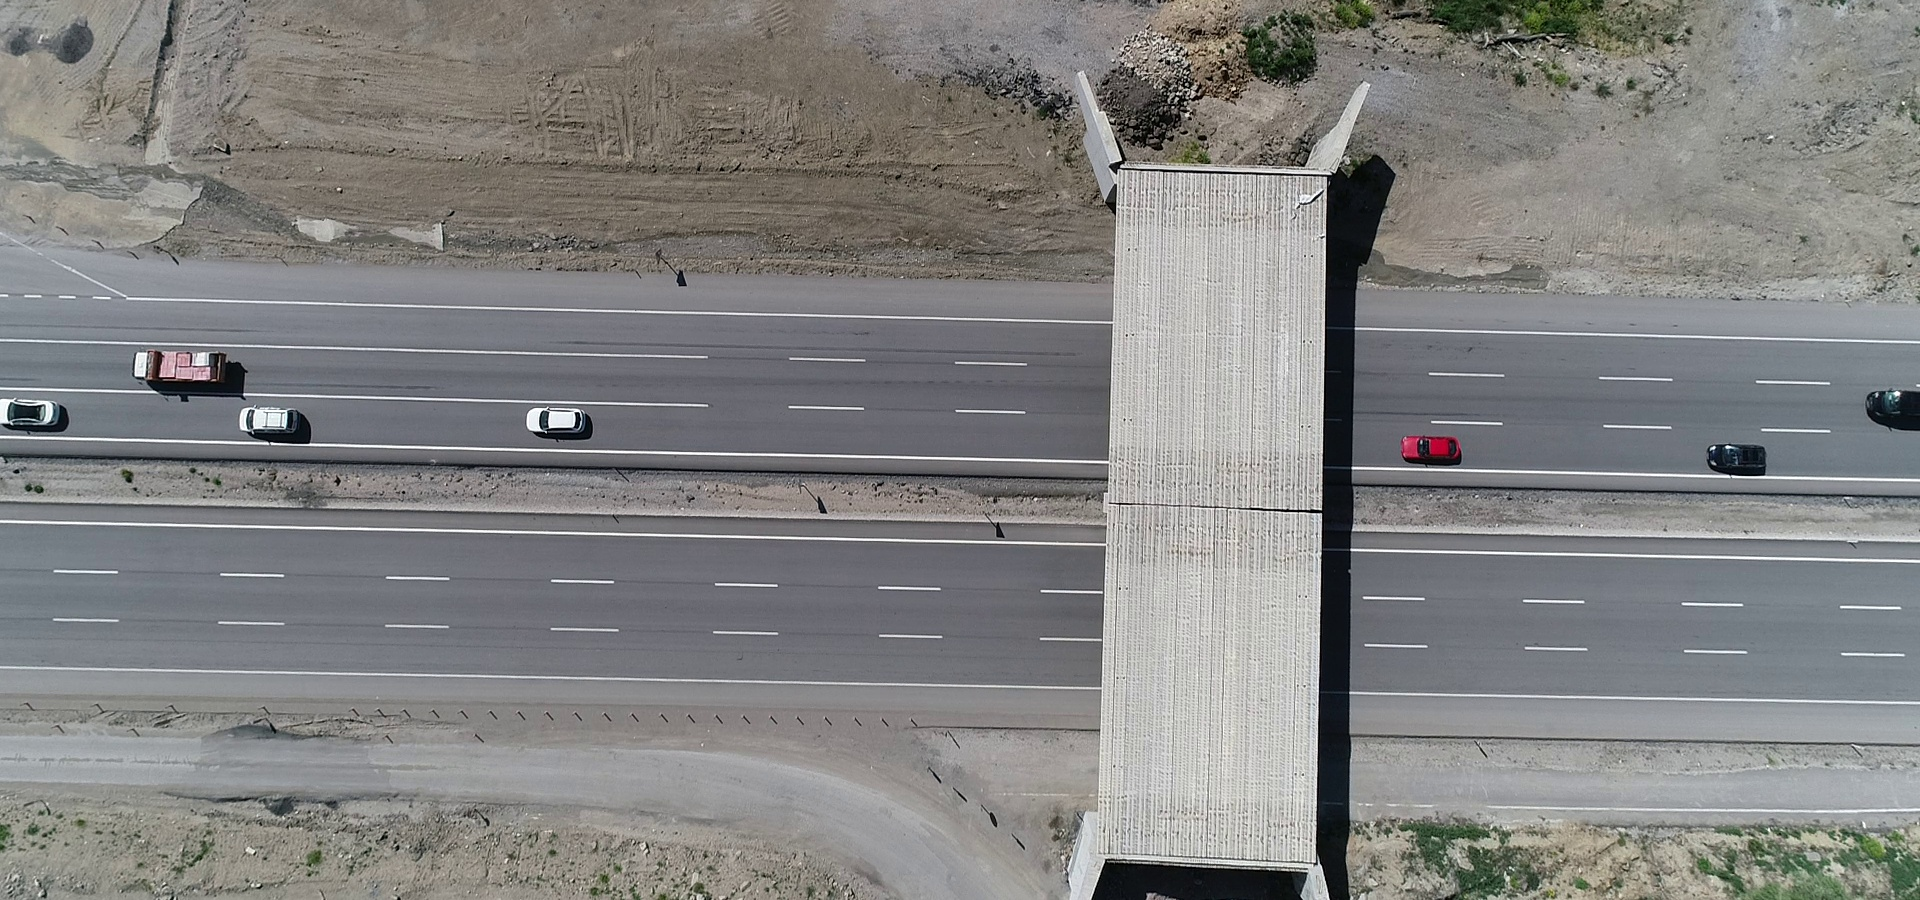araba: (520, 403, 602, 446), (1701, 437, 1783, 476), (1392, 430, 1476, 464), (1, 396, 75, 432), (1864, 381, 1920, 426), (239, 403, 302, 440)
kamyon: (129, 342, 228, 397)
